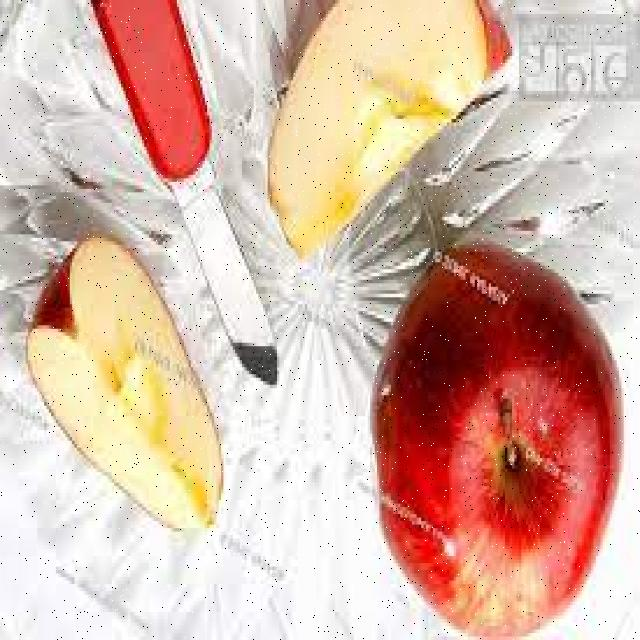Apple: (376, 252, 621, 640), (268, 0, 511, 256), (29, 234, 221, 530)
